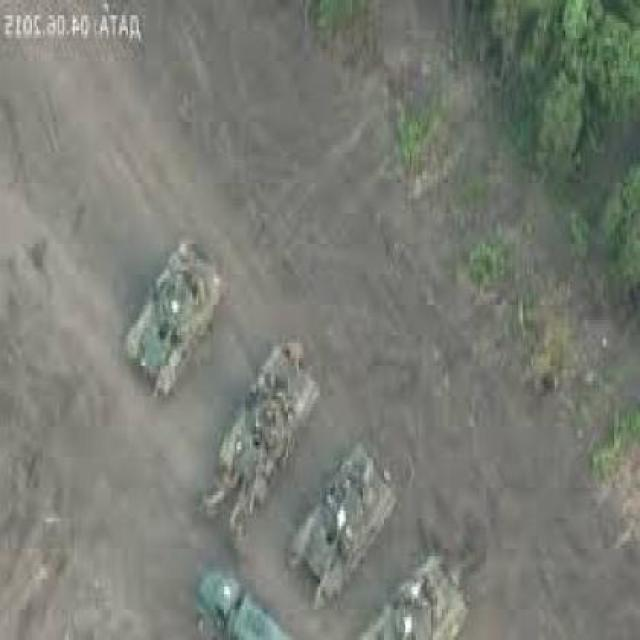tank: (207, 342, 317, 519), (129, 242, 218, 386), (300, 462, 395, 576), (370, 571, 464, 640)
